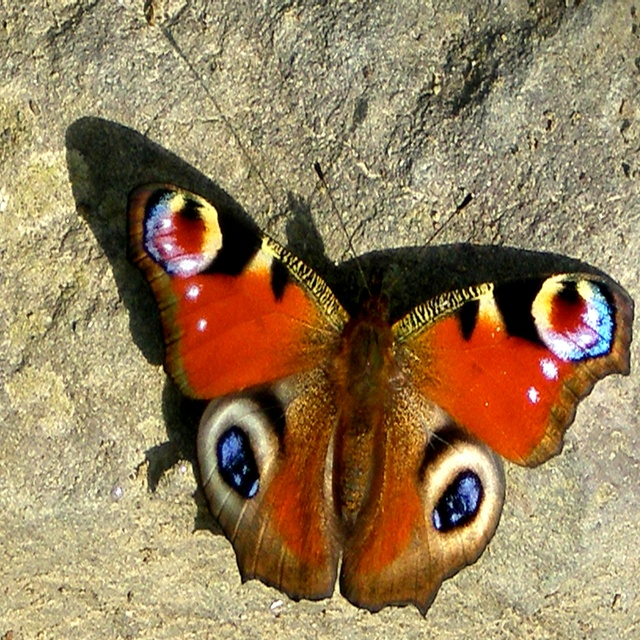Butterfly: (100, 96, 601, 626)
